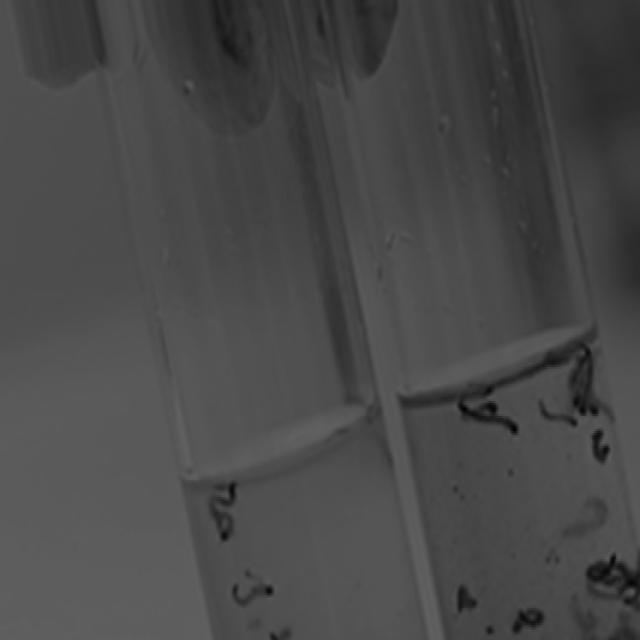larvas: (459, 400, 517, 438), (563, 492, 606, 542), (229, 578, 276, 606), (581, 341, 595, 420), (542, 405, 578, 430), (565, 353, 581, 404), (214, 484, 238, 517), (514, 607, 544, 632), (588, 551, 615, 578), (457, 582, 478, 616), (590, 399, 614, 423), (212, 520, 233, 547), (588, 582, 618, 600), (617, 581, 637, 604), (593, 434, 608, 464), (617, 560, 640, 579), (480, 400, 501, 417)
